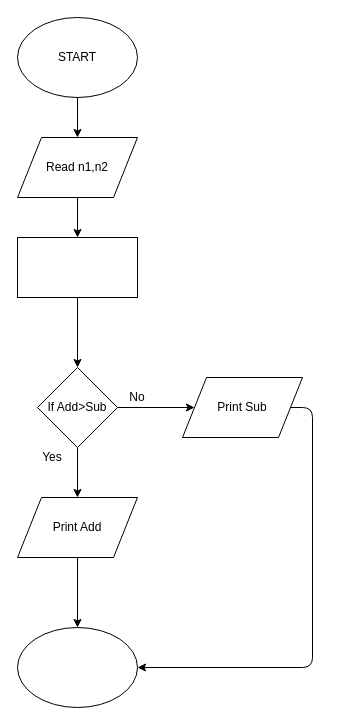
Image size: 338x725. Some labels were removed from this diagram. The centre of each missing label's shape, as x and y in pixels:
"Add= n1+n2 Sub= n2-n1" belongs at (77,267).
"END" belongs at (77,667).
